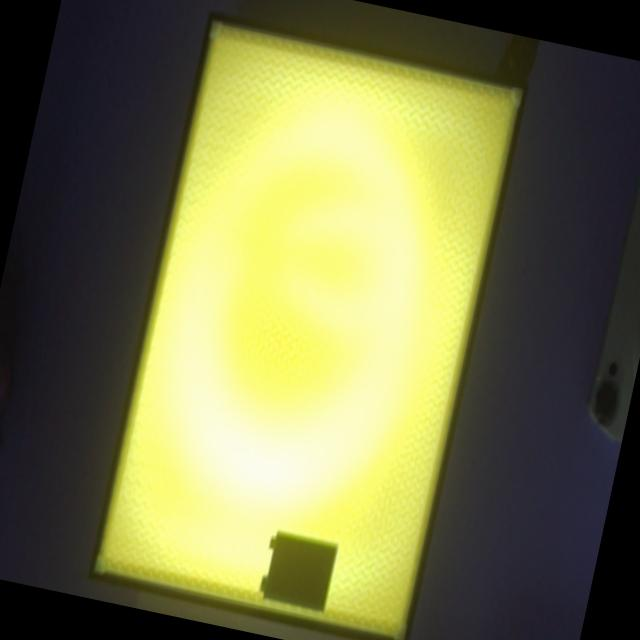bateria: (260, 530, 339, 613)
mesa: (87, 10, 530, 640)
